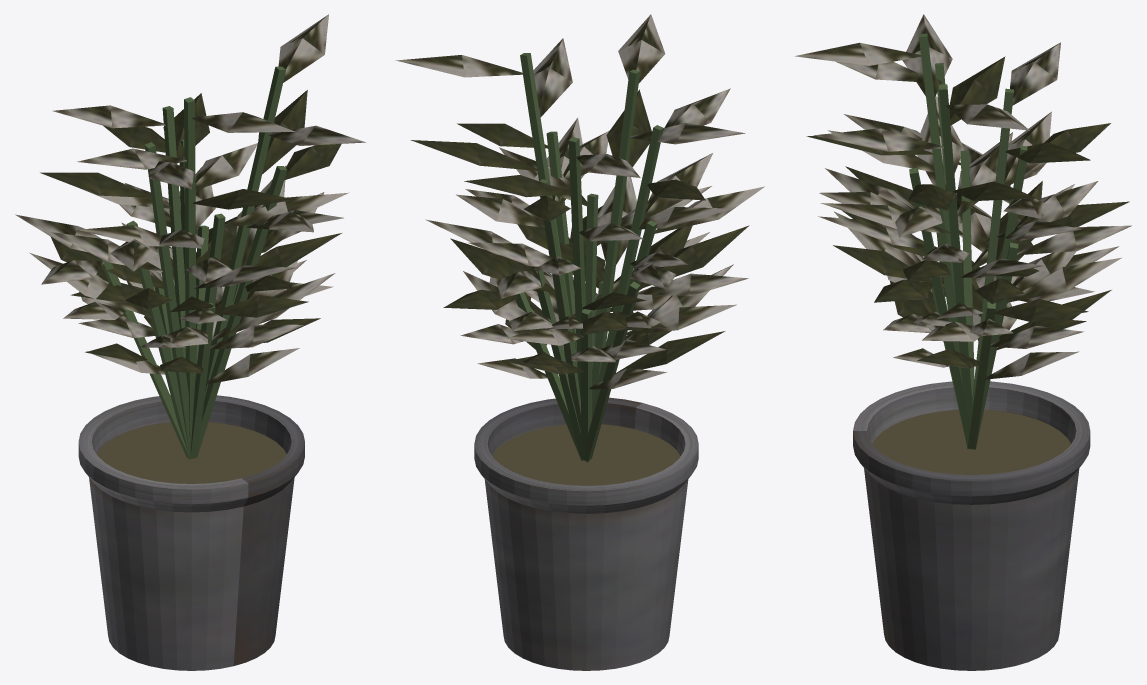
The model's file is salon-plant.glb.
The picture shows the model from 3 angles, left to right: view 1: azimuth 30°, elevation 25°; view 2: azimuth 150°, elevation 25°; view 3: azimuth 270°, elevation 25°; orthographic projection. The views are drawn at different scales.
Bounding box in the file's own units: 0.556 × 0.9421 × 0.4827.
1 material, 1 textured.
